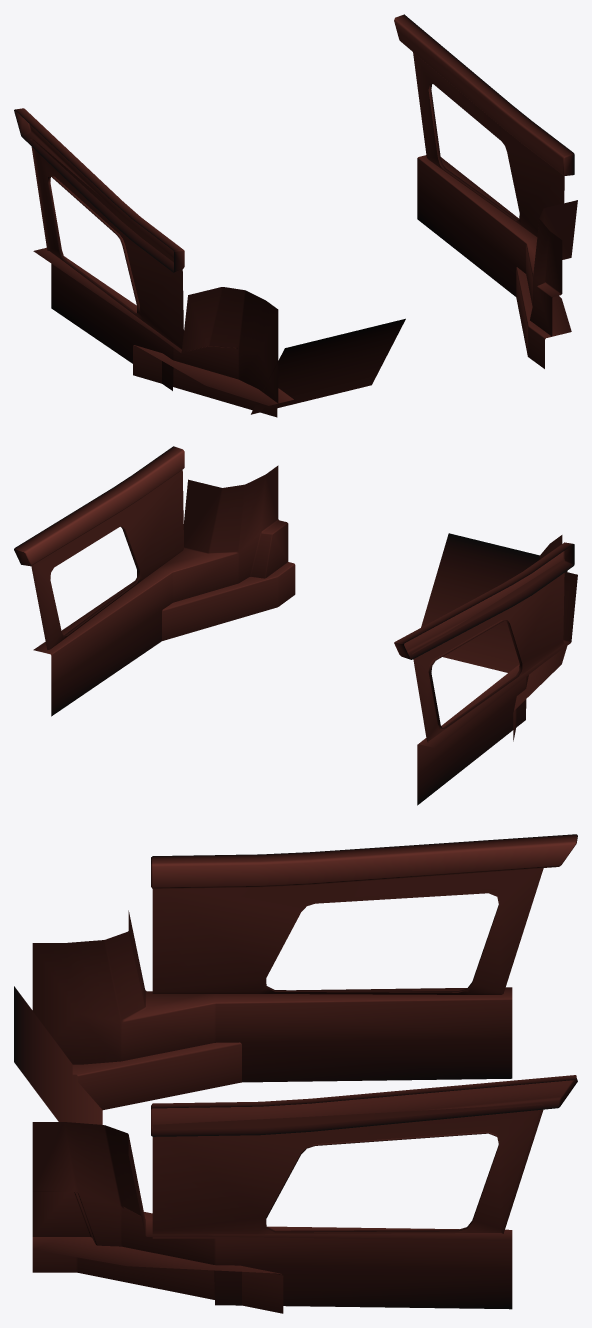
The model's file is F40_Chassis_Carbon.fbx.
3 views of the same model, one above another, from view 1: azimuth 30°, elevation 25°; view 2: azimuth 150°, elevation 25°; view 3: azimuth 270°, elevation 25° (orthographic). The views are drawn at different scales.
Visible parts, largest first — view 1: F40_Chassis_Carbon; view 2: F40_Chassis_Carbon; view 3: F40_Chassis_Carbon.
Part boxes in pixels (bbox=[...]): F40_Chassis_Carbon: bbox=[14, 14, 577, 417]; F40_Chassis_Carbon: bbox=[14, 446, 577, 805]; F40_Chassis_Carbon: bbox=[14, 834, 577, 1313].
Bounding box in the file's own units: 136 × 59.27 × 128.
